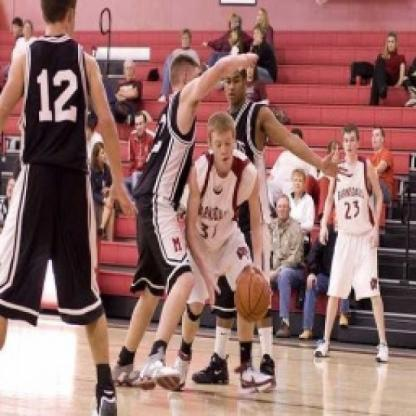basketball: (231, 268, 274, 326)
